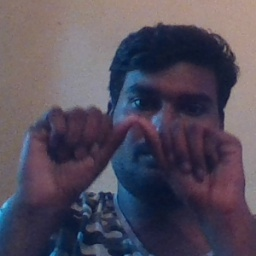A: (48, 101, 222, 211)
